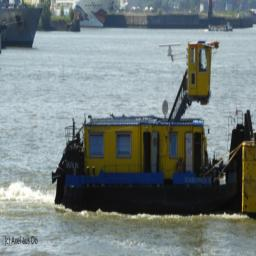tugboat: (52, 35, 245, 221)
